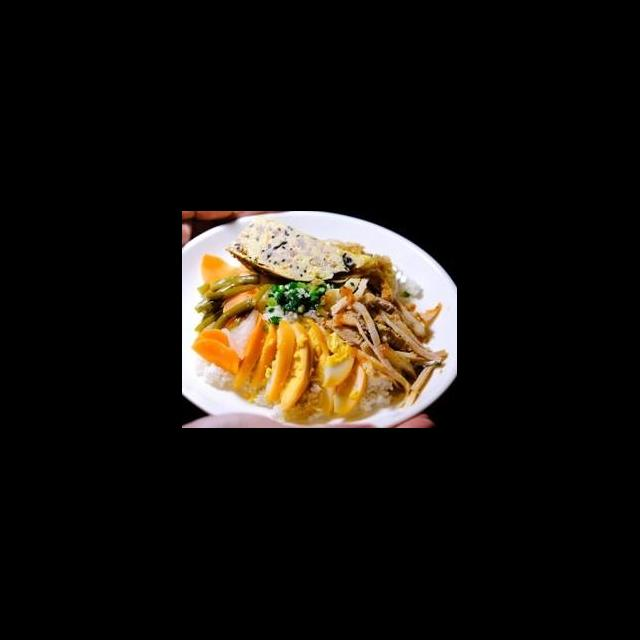cha: (225, 214, 378, 286)
com: (357, 372, 398, 414), (192, 354, 236, 392)
com suon bi cha trung: (196, 228, 444, 428)
dua chua: (190, 269, 276, 376)
suon: (368, 290, 450, 410), (314, 274, 378, 348)
trung: (278, 316, 371, 421), (248, 319, 298, 406)
